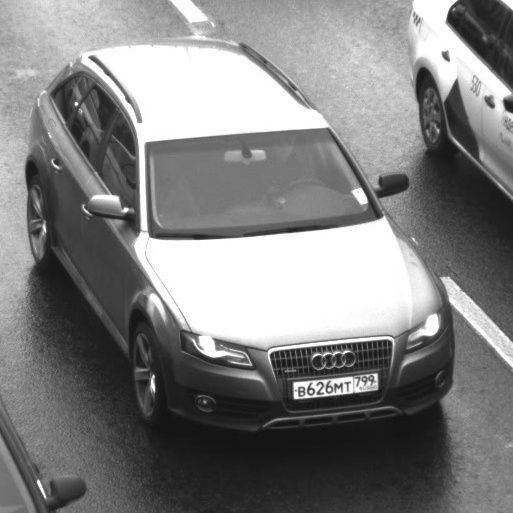plate: (277, 361, 387, 407)
